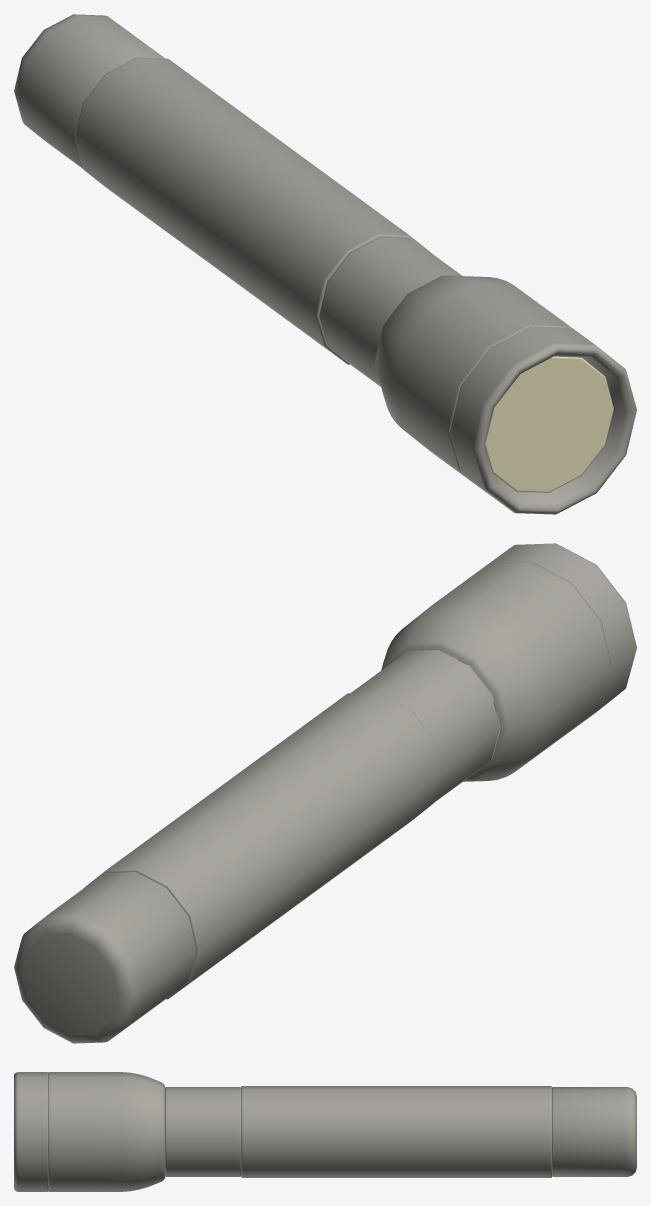
The model's file is Torch.fbx.
3 views of the same model, one above another, from view 1: azimuth 30°, elevation 25°; view 2: azimuth 150°, elevation 25°; view 3: azimuth 270°, elevation 25° (orthographic). The views are drawn at different scales.
Parts seen in each view (by area): view 1: polymsh_detached60; view 2: polymsh_detached60; view 3: polymsh_detached60.
Part boxes in pixels (x1,y1,x2,y2): polymsh_detached60: (14,14,636,514); polymsh_detached60: (14,543,636,1043); polymsh_detached60: (14,1072,636,1191).
Size of the model in its own units: 1154 by 223 by 223.
